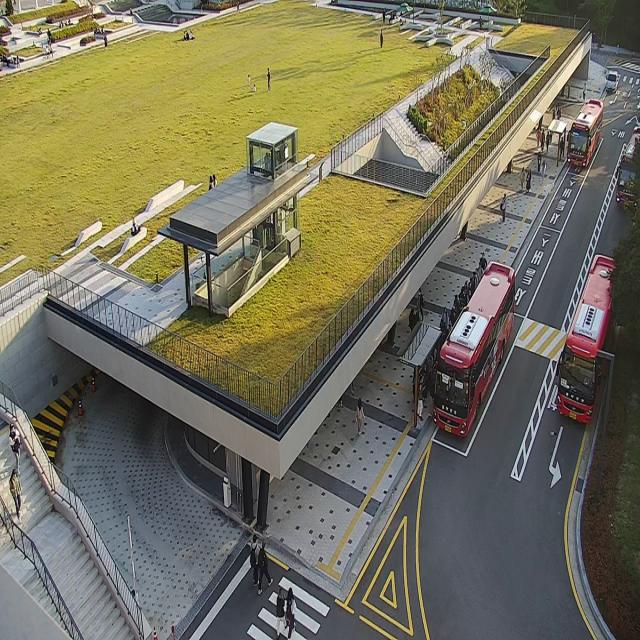queue: (416, 254, 486, 428)
